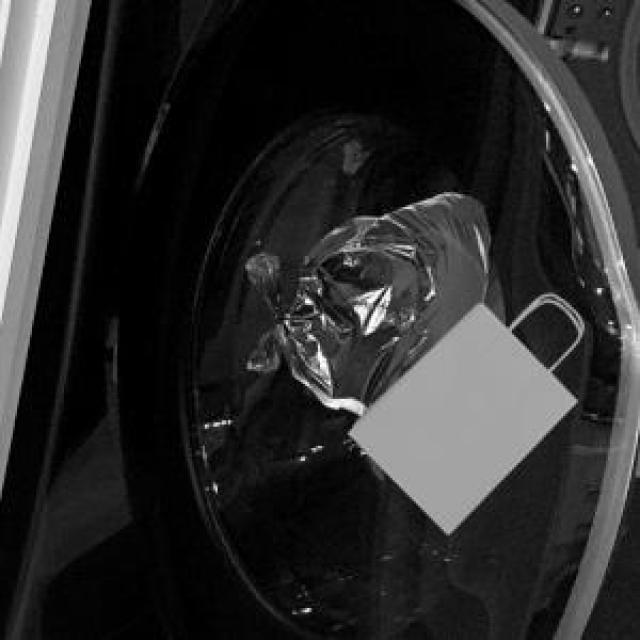miscellaneous trash: (241, 190, 486, 412)
paper: (344, 294, 572, 529)
